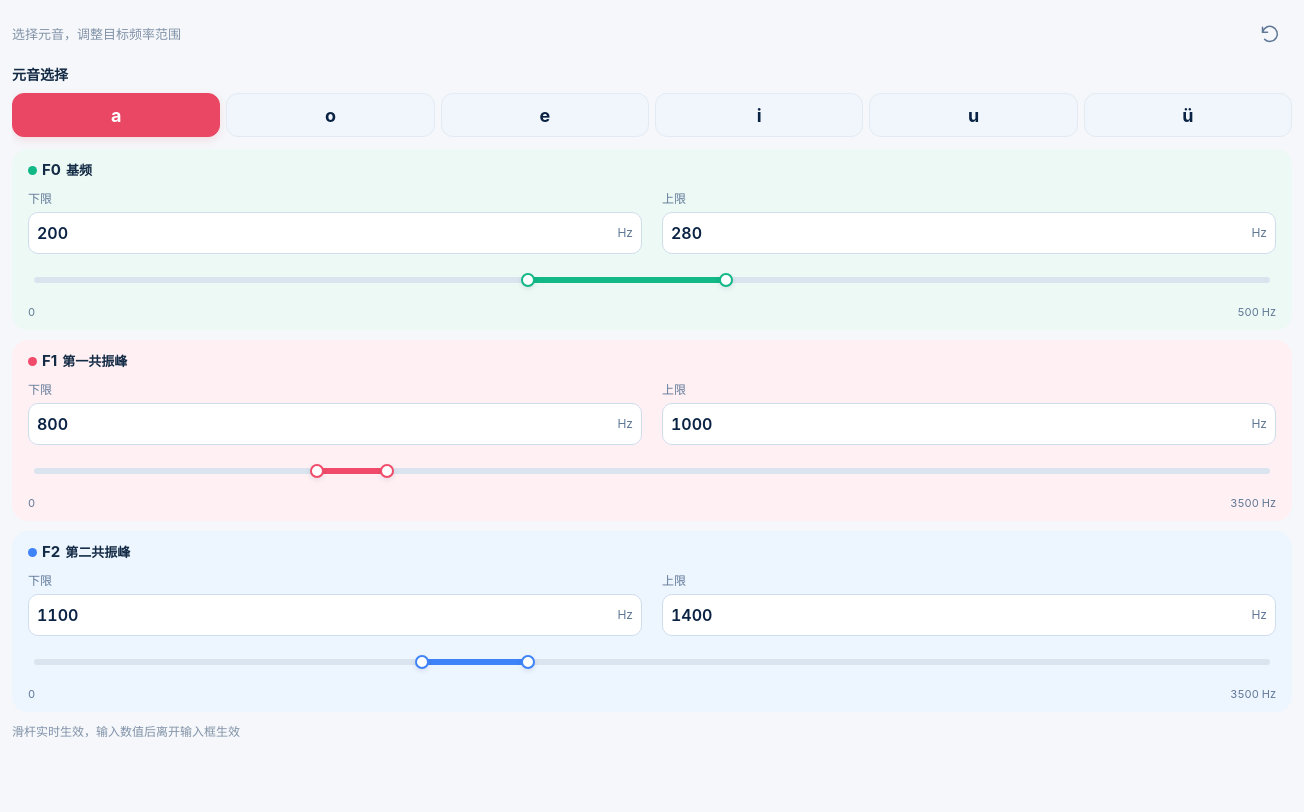
Test: TrainingGoalCard › clamps an invalid own range to the 50 Hz interval
Replace the text in the number field named "F1下限" with "1200" at (325, 424), box [37,404,614,444]
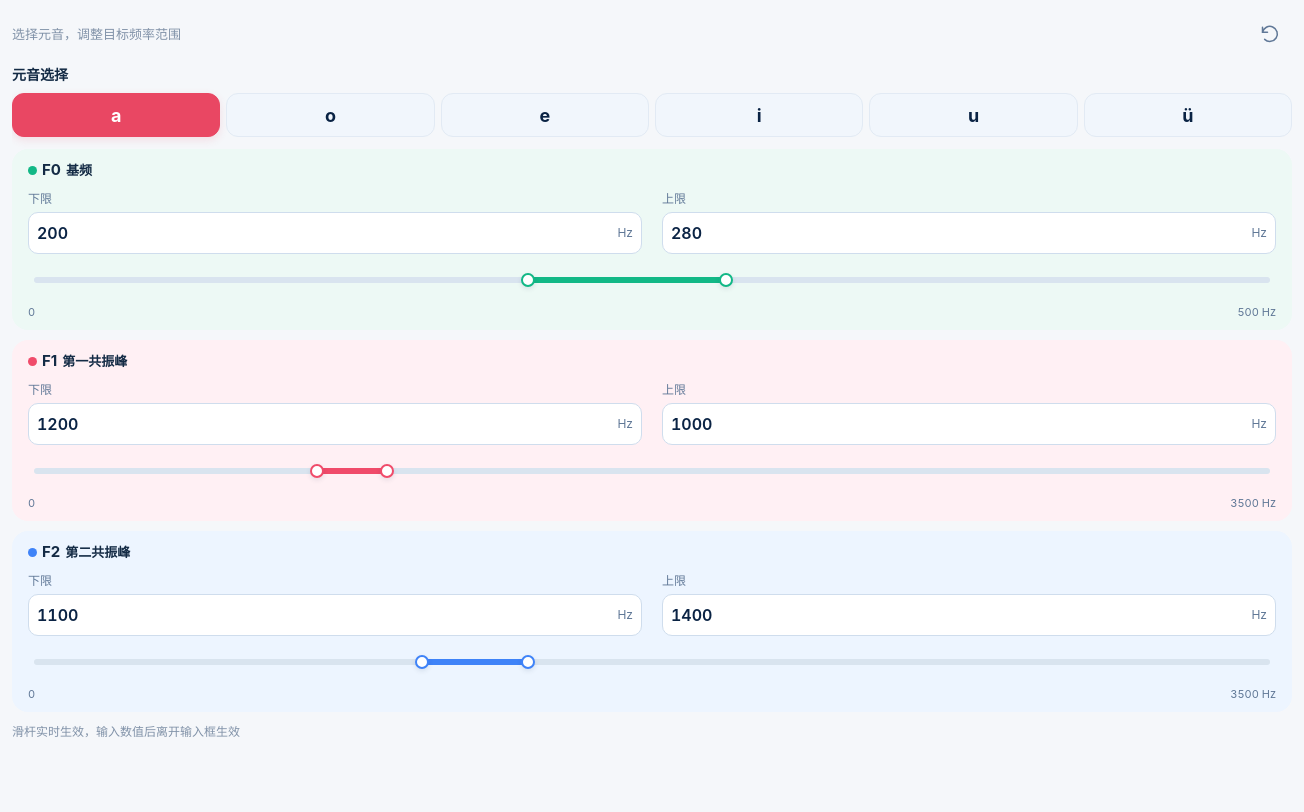
Leave the number field named "F1下限", box [37,404,614,444]
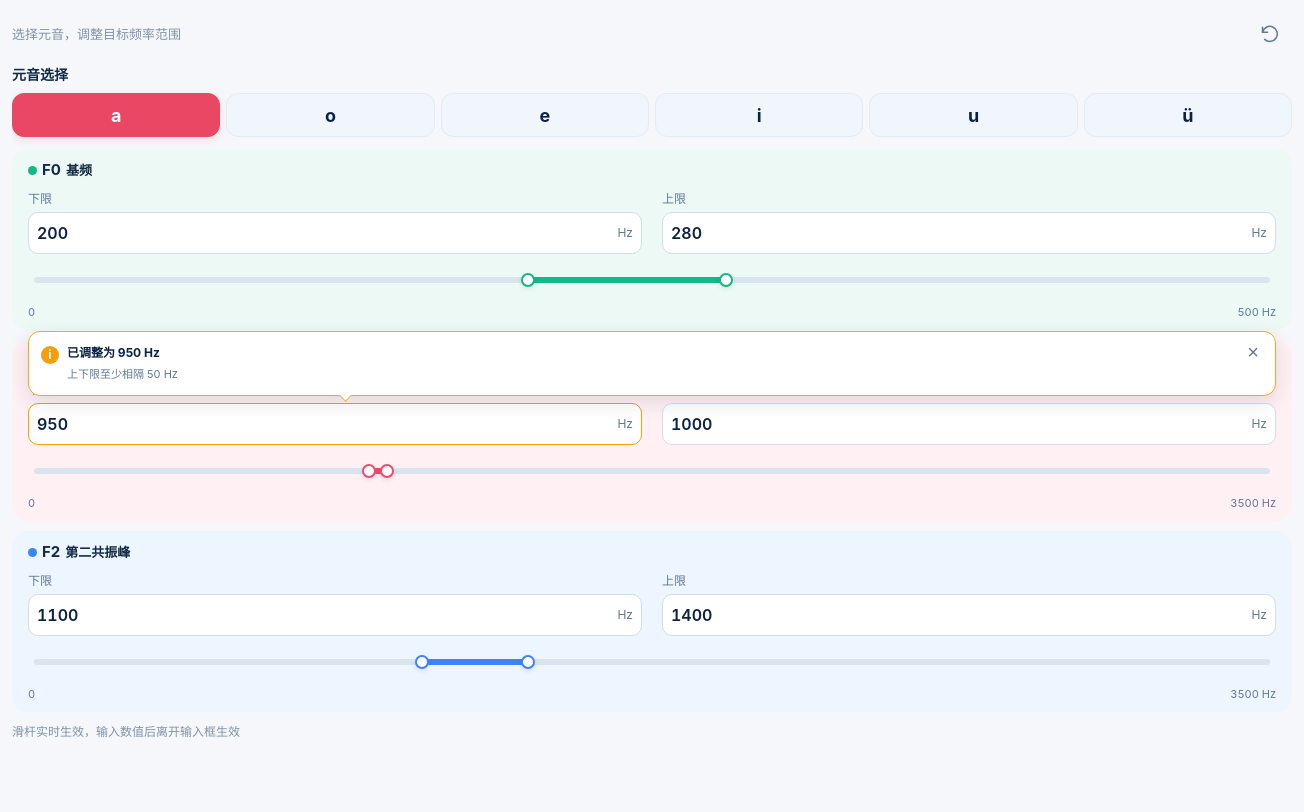
Expected: the number field named "F1下限" holds "950", [37,404,614,444]
Expected: the message shows "至少相隔 50 Hz", [67,366,178,380]
